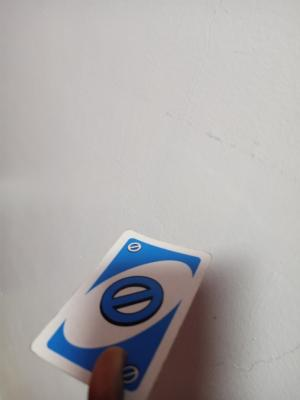blue: (101, 259, 171, 343)
skip: (125, 239, 143, 254)
